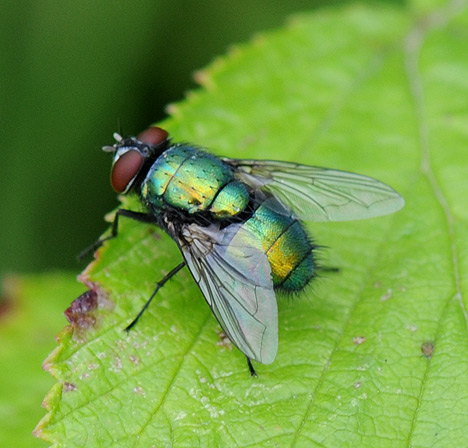green bottles fly: (74, 93, 422, 393)
